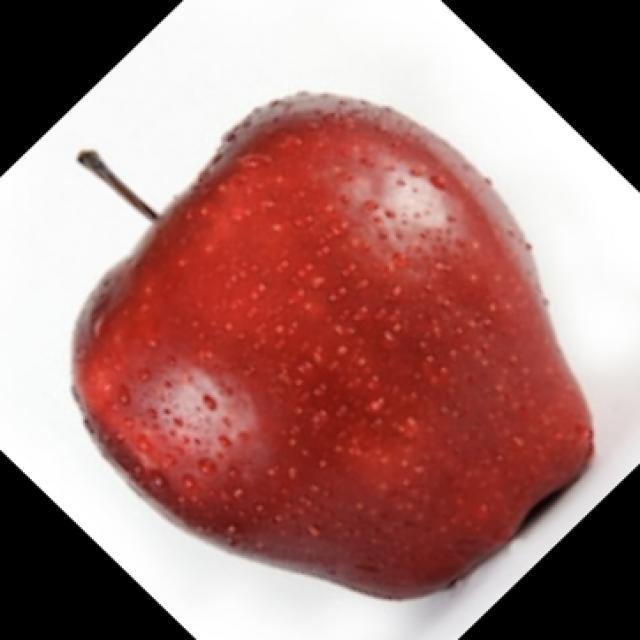Fresh Apple: (70, 102, 602, 605)
